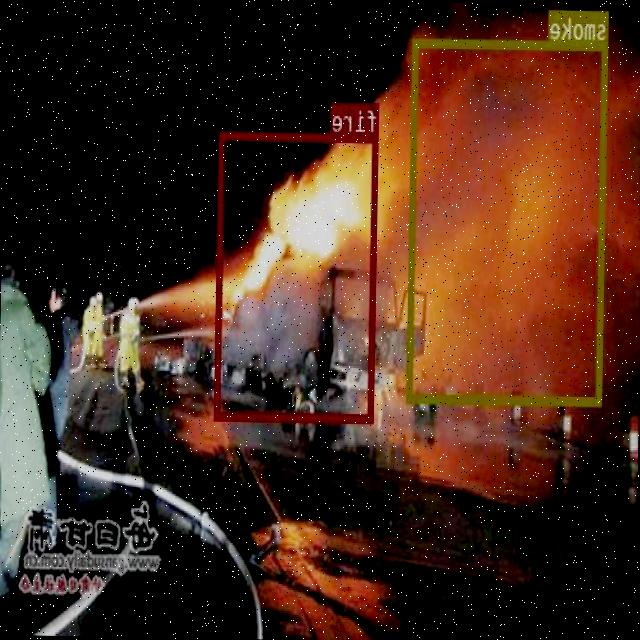fire: (215, 130, 378, 420)
smoke: (408, 38, 609, 404)
